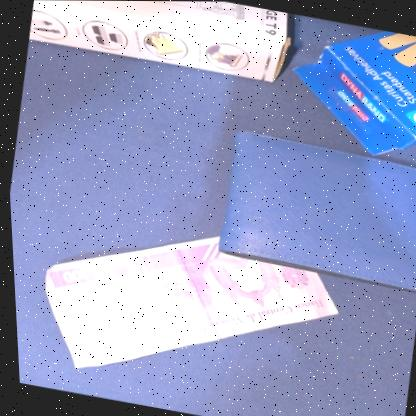vef_back: (23, 204, 348, 413)
